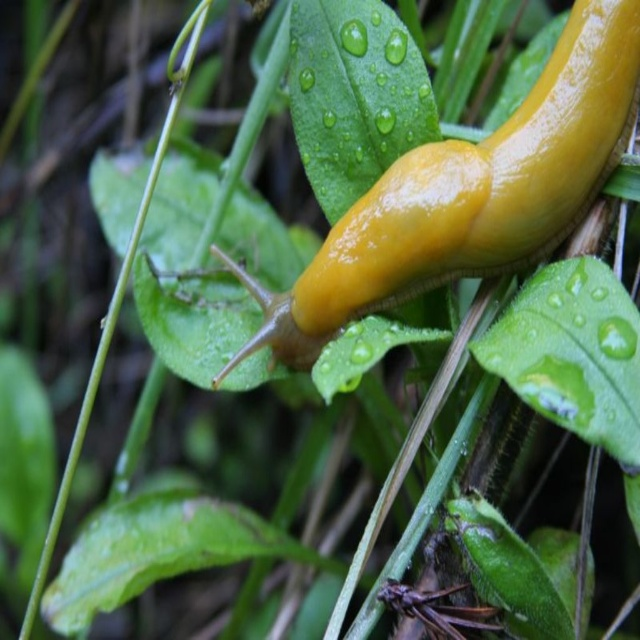Snail: (209, 0, 640, 393)
